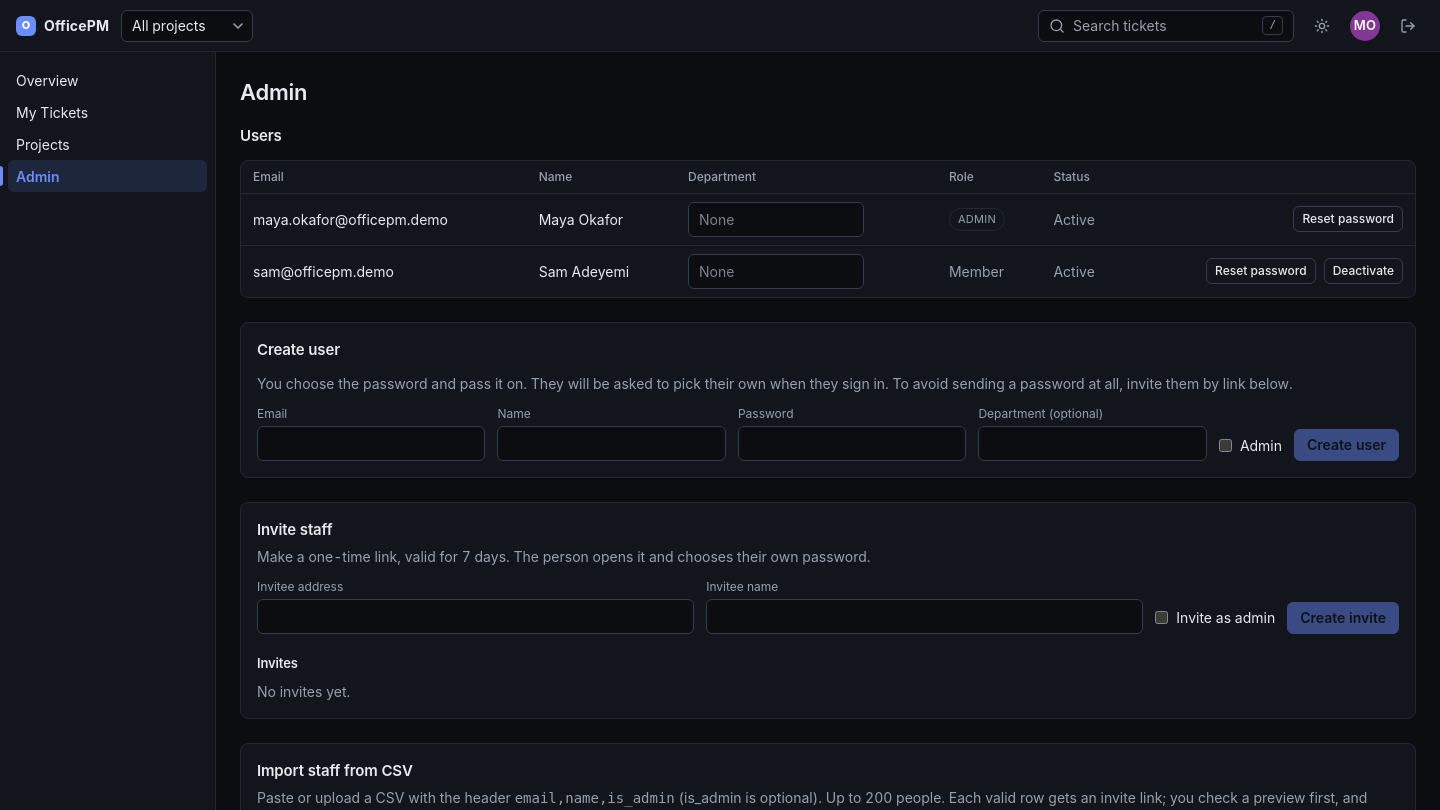
it: admin page › shows the server message when the email is taken
In the field labelled "Email": (371, 444) x1=257 y1=426 x2=486 y2=461, type "sam@officepm.demo"
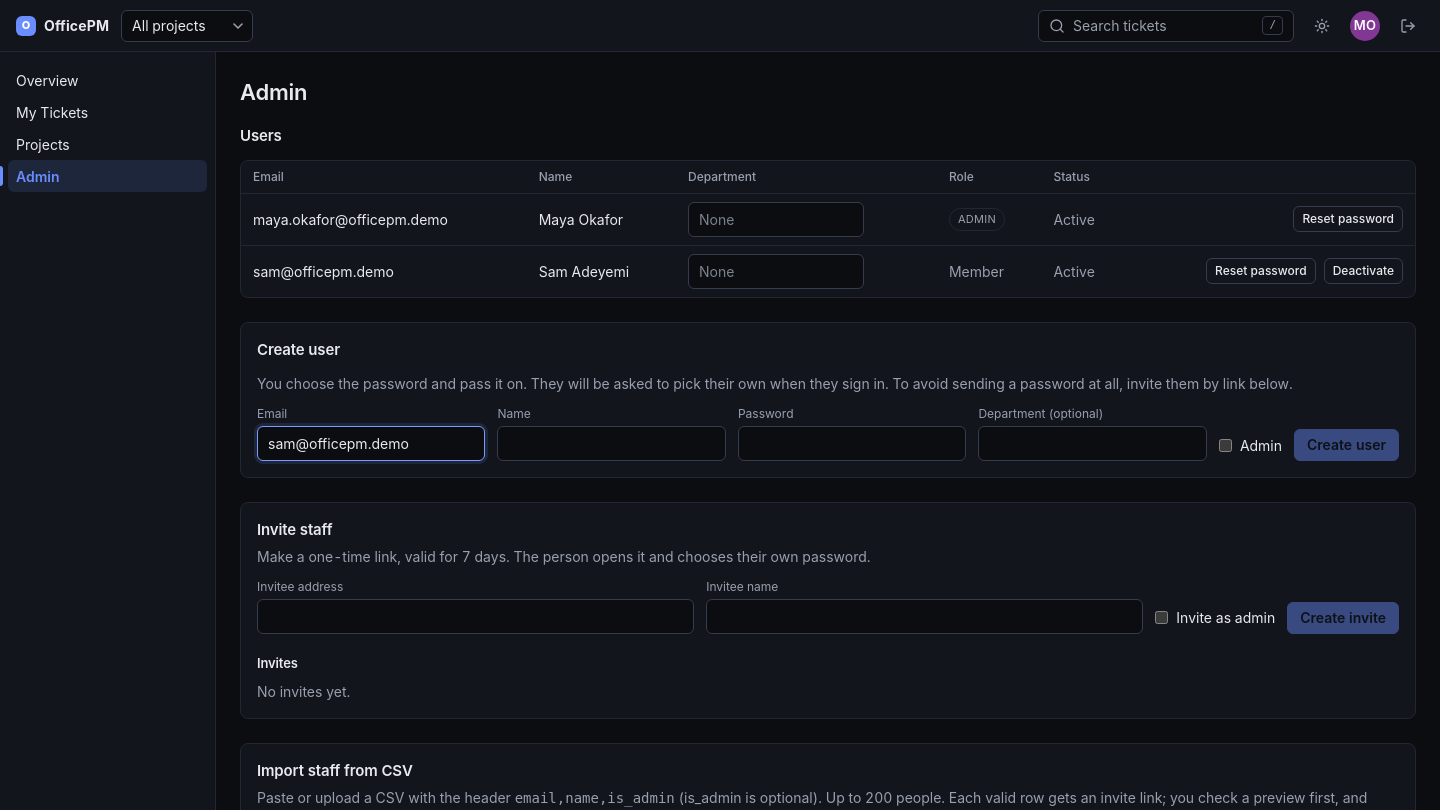
In the field labelled "Name": (612, 444) x1=498 y1=426 x2=726 y2=461, type "Sam"
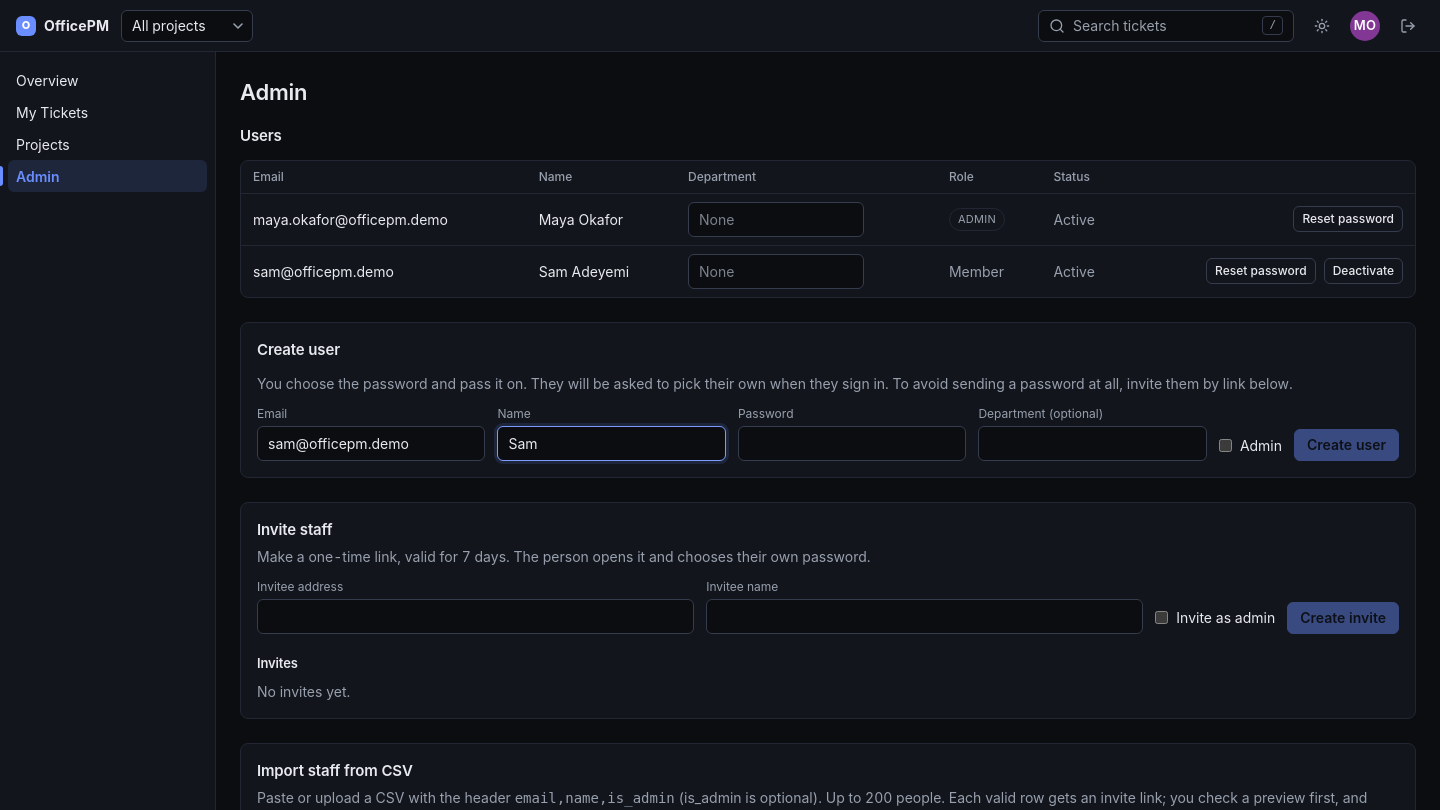
In the password field labelled "Password": (852, 444) x1=738 y1=426 x2=966 y2=461, type "secret1"
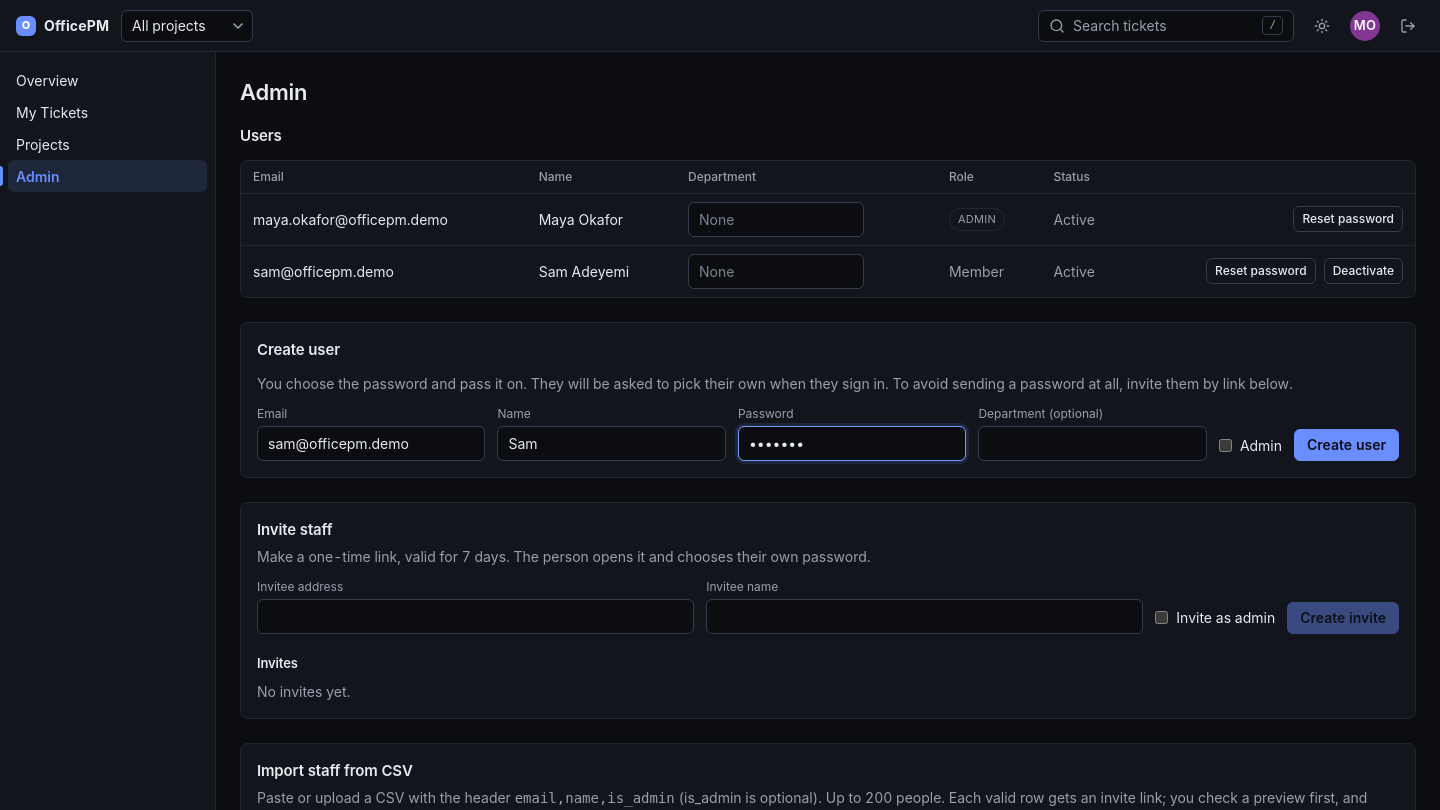
Click the button "Create user": click(1346, 445) x1=1294 y1=429 x2=1399 y2=461
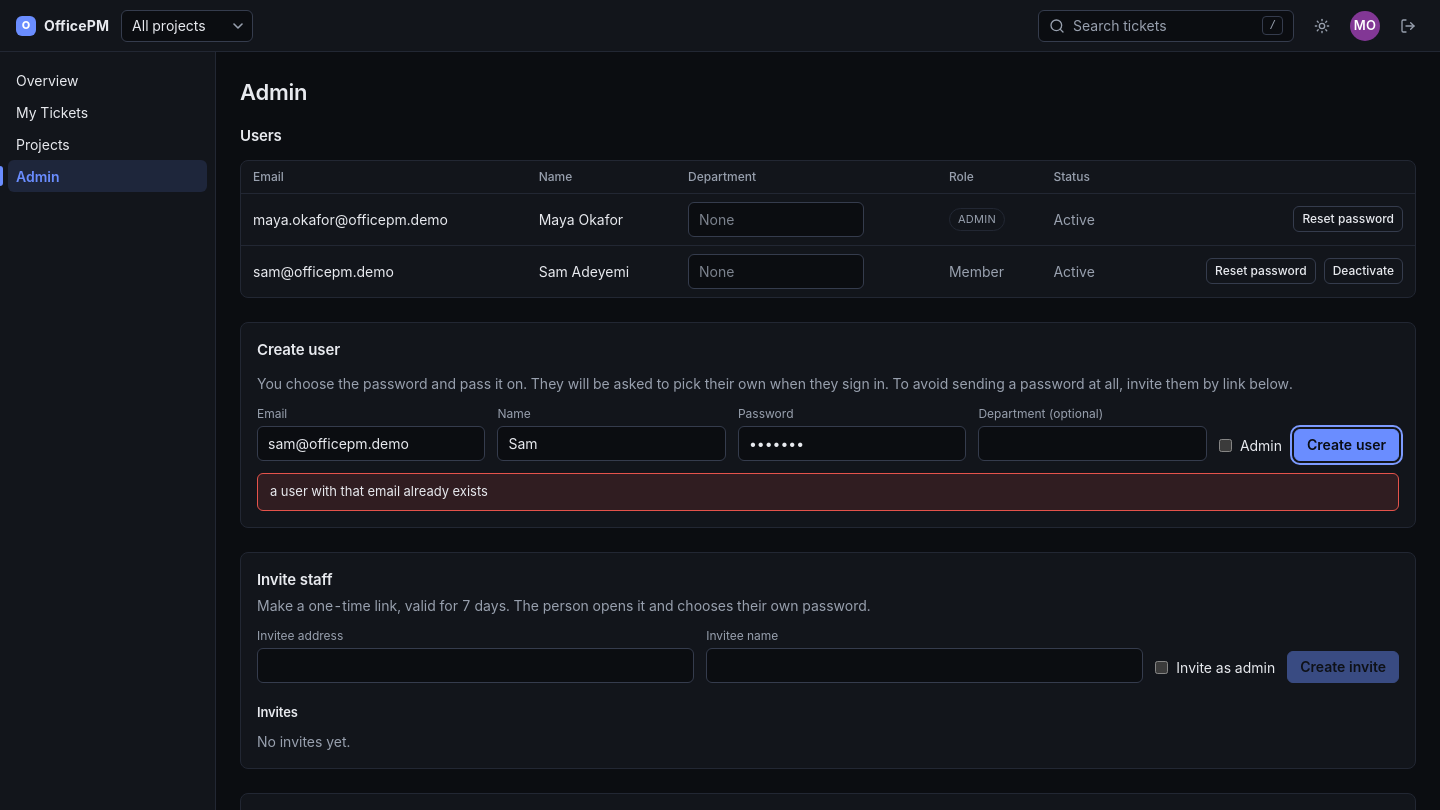
Expected: the message shows "already exists", x1=270 y1=483 x2=488 y2=499
